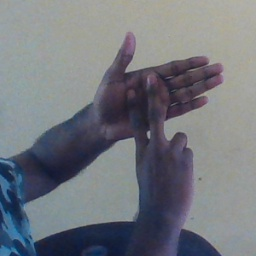N: (90, 29, 228, 183)
